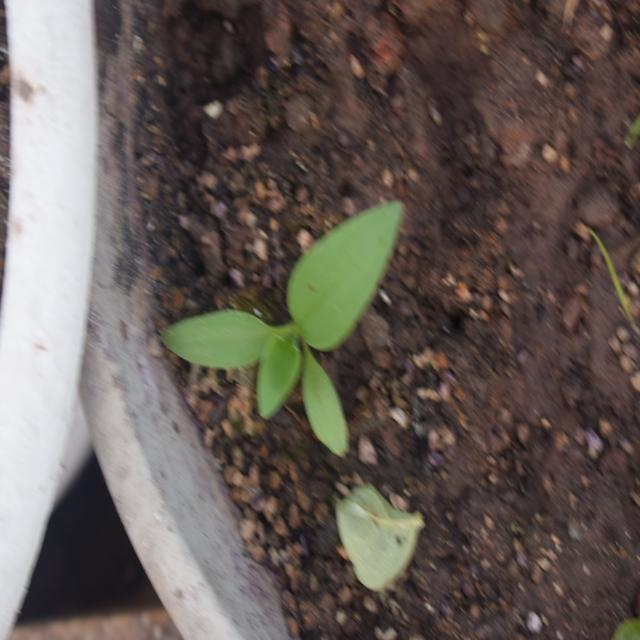Common Dayflower: (176, 203, 398, 457)
